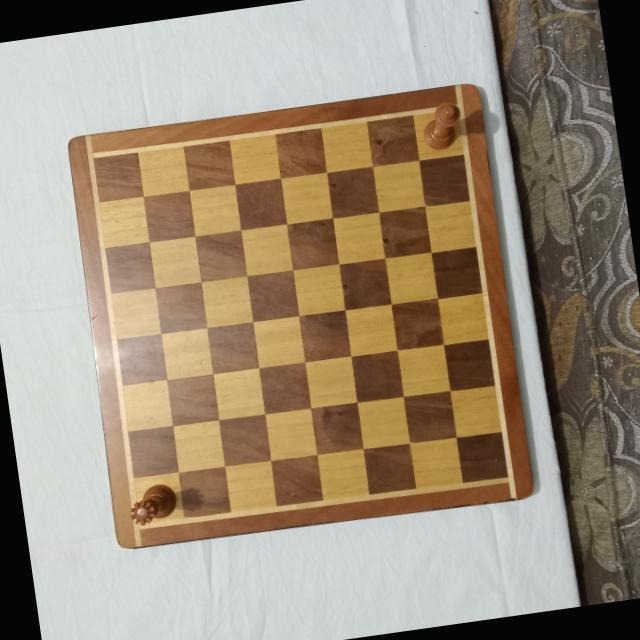white-king: (421, 98, 467, 150)
white-queen: (124, 479, 181, 528)
